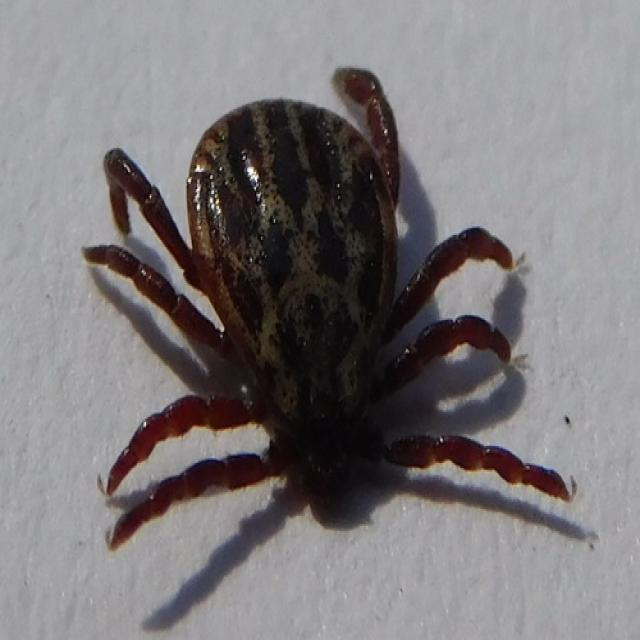Dermacentor Reticulatus-M: (82, 68, 573, 551)
